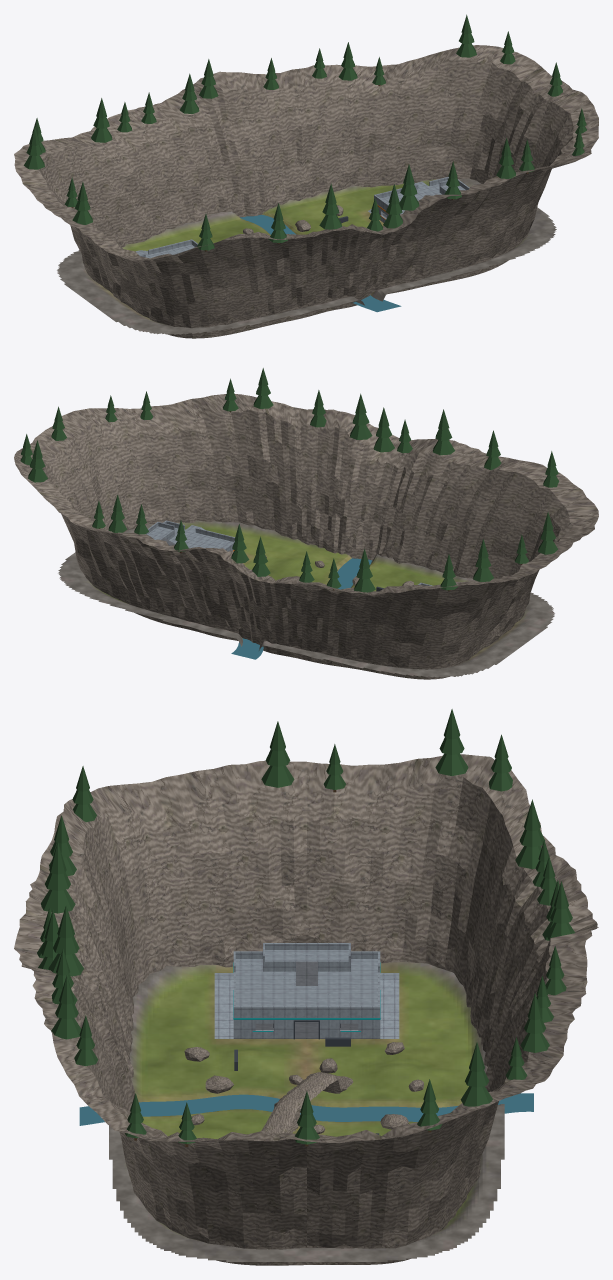
The model's file is Creek.glb.
3 renders of one model, top to bottom at view 1: azimuth 30°, elevation 25°; view 2: azimuth 150°, elevation 25°; view 3: azimuth 270°, elevation 25°, orthographic. The views are drawn at different scales.
Visible parts, largest first — view 1: Cliffs_rock, Terrain_ground, Pines_pine, BaseE_metal, Creek_Water_water, BaseW_metal; view 2: Cliffs_rock, Terrain_ground, Pines_pine, BaseE_metal, Creek_Water_water; view 3: Cliffs_rock, Terrain_ground, Pines_pine, BaseW_metal, Creek_Water_water, Arch_rock, BaseW_floor.
Boxes of the visible parts, x1,y1,x2,y2 form: Cliffs_rock: (14,45,598,338); Terrain_ground: (57,178,556,334); Pines_pine: (24,14,586,250); BaseE_metal: (368,177,469,222); Creek_Water_water: (240,214,401,312); BaseW_metal: (136,239,197,258); Cliffs_rock: (14,394,598,679); Terrain_ground: (58,520,554,677); Pines_pine: (20,368,559,593); BaseE_metal: (146,520,234,551); Creek_Water_water: (231,558,372,659); Cliffs_rock: (14,754,598,1265); Terrain_ground: (109,962,504,1261); Pines_pine: (37,709,574,1144); BaseW_metal: (214,943,399,1038); Creek_Water_water: (79,1093,533,1125); Arch_rock: (261,1072,353,1133); BaseW_floor: (234,961,379,1038).
Size of the model in its own units: 125 by 36.43 by 79.82.
Materials: 10 (4 with a texture image).
